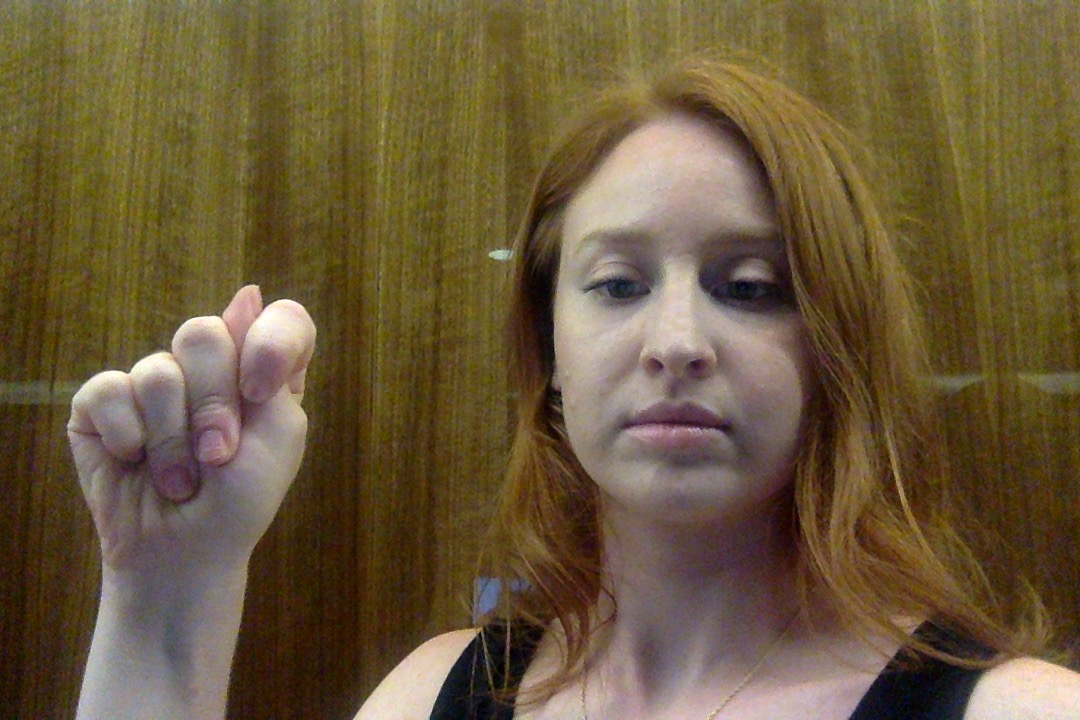t: (55, 278, 324, 549)
